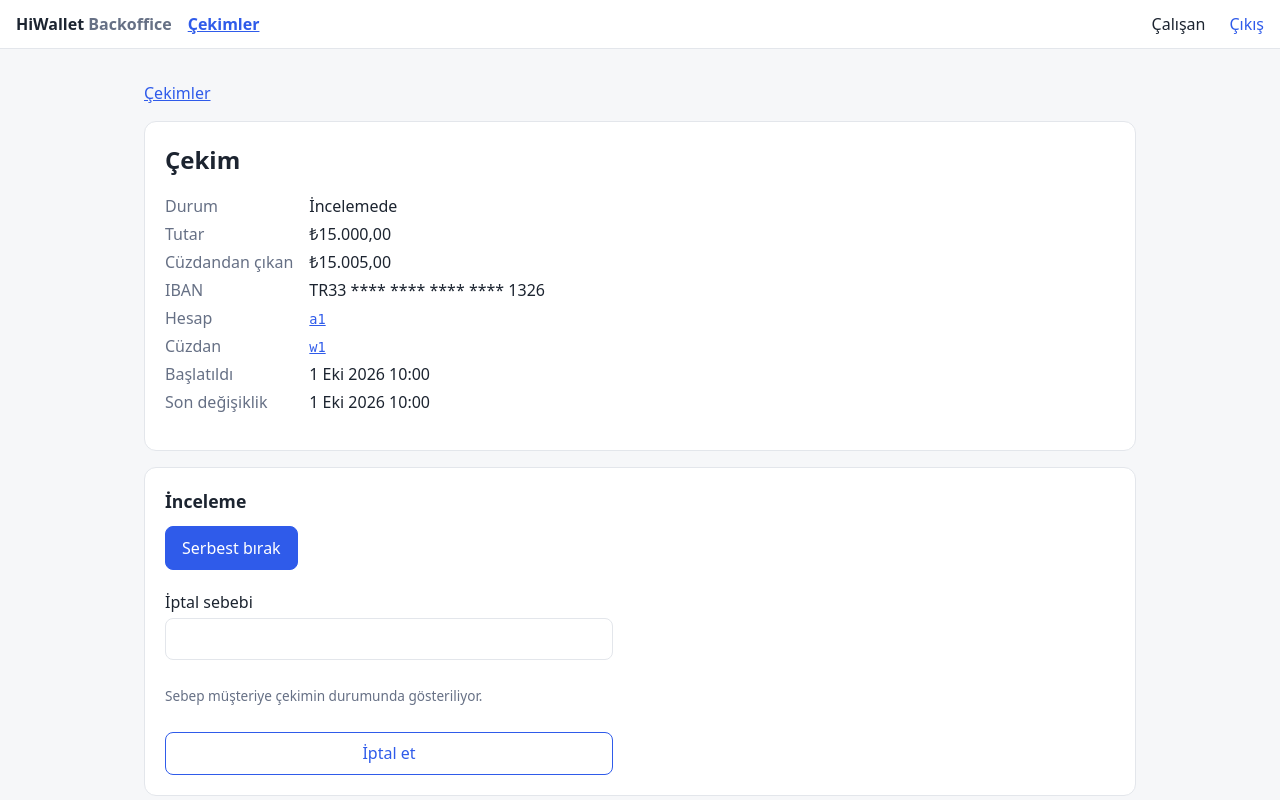
WithdrawalPage › inceleme izniyle çekim serbest bırakılıyor
Click the button "Serbest bırak" at point(231, 548), box [165,526,298,570]
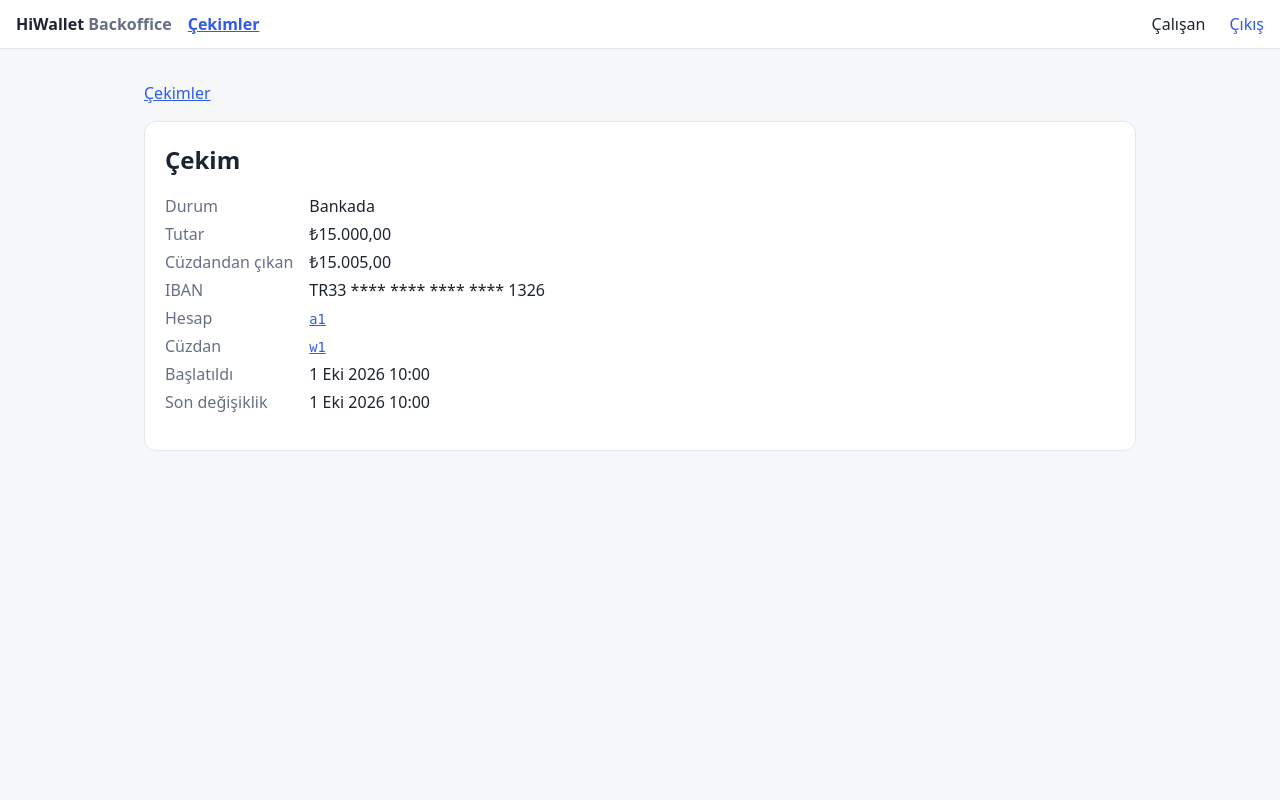
Now the text "Bankada" is shown, box [309,195,375,217]
